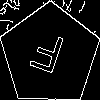F: (25, 30, 67, 83)
